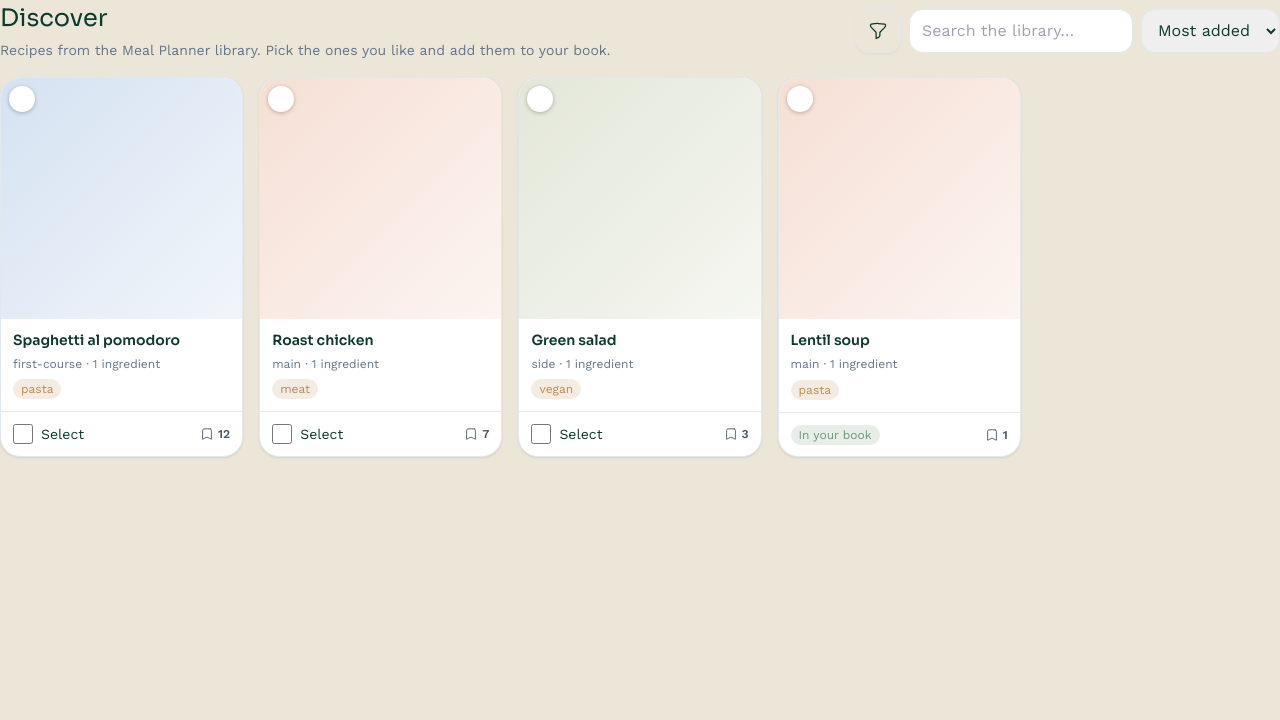
Test: opening a card shows its ingredients and procedure from catalogApi.get (UI-7)
The image size is (1280, 720).
Expected: the text "Spaghetti al pomodoro" is shown, left=13, top=331, right=180, bottom=349
Click the button "Roast chicken main · 1 ingredient meat".
click(381, 245)  # box left=260, top=78, right=501, bottom=411
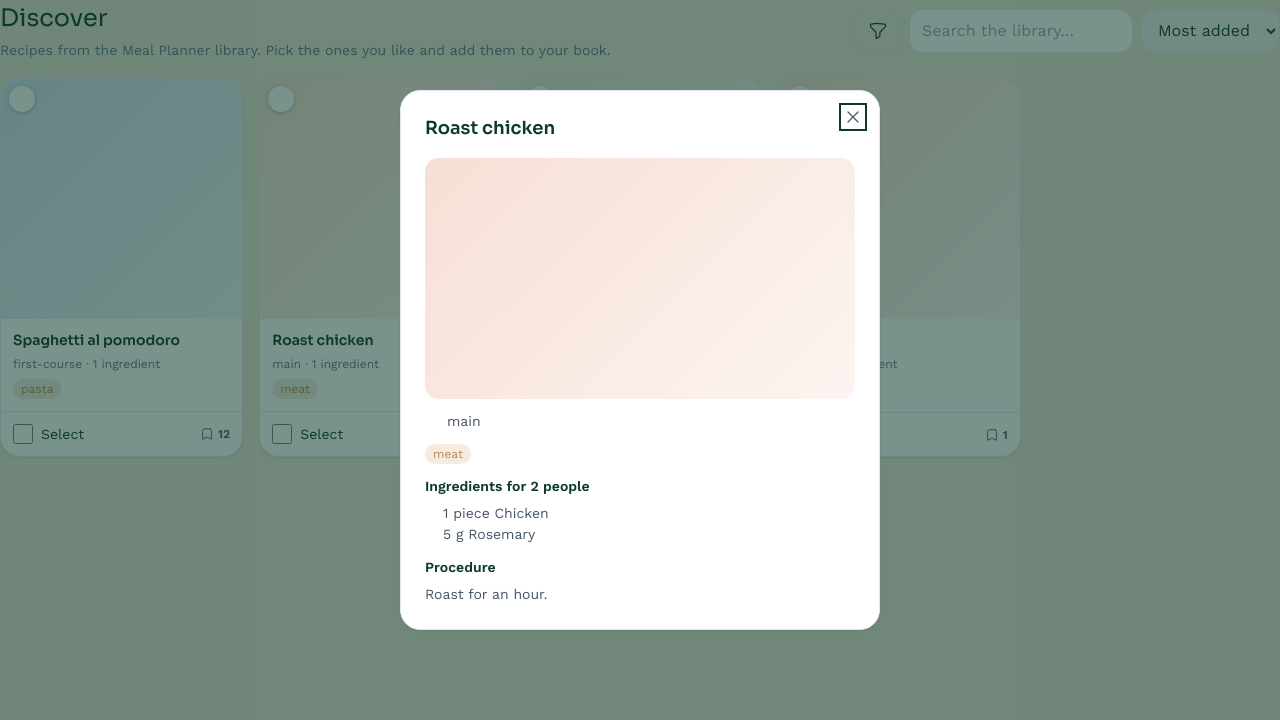
Expected: the heading "Roast chicken" is shown, left=425, top=117, right=555, bottom=139
Expected: the text "Roast for an hour." is shown, left=425, top=586, right=547, bottom=602
Expected: the list item "1 piece Chicken" is shown, left=443, top=505, right=549, bottom=521
